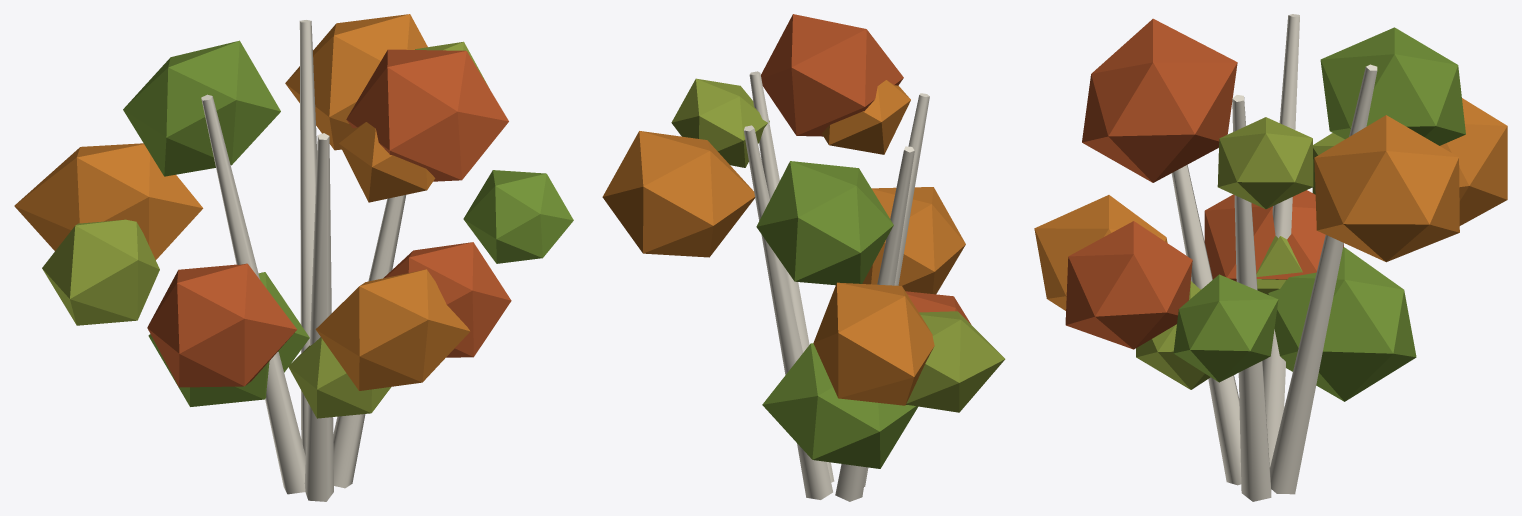
The model's file is bush01.glb.
3 views of the same model, side by side, from view 1: azimuth 30°, elevation 25°; view 2: azimuth 150°, elevation 25°; view 3: azimuth 270°, elevation 25° (orthographic). The views are drawn at different scales.
Visible parts, largest first — view 1: crown, trunk; view 2: crown, trunk; view 3: crown, trunk.
Part boxes in pixels (x1,y1,x2,y2): crown: [14, 14, 573, 418]; trunk: [201, 20, 406, 501]; crown: [602, 14, 1005, 468]; trunk: [743, 71, 929, 501]; crown: [1034, 18, 1507, 401]; trunk: [1171, 14, 1377, 501].
Bounding box in the file's own units: 0.9759 × 0.9626 × 0.8657.
